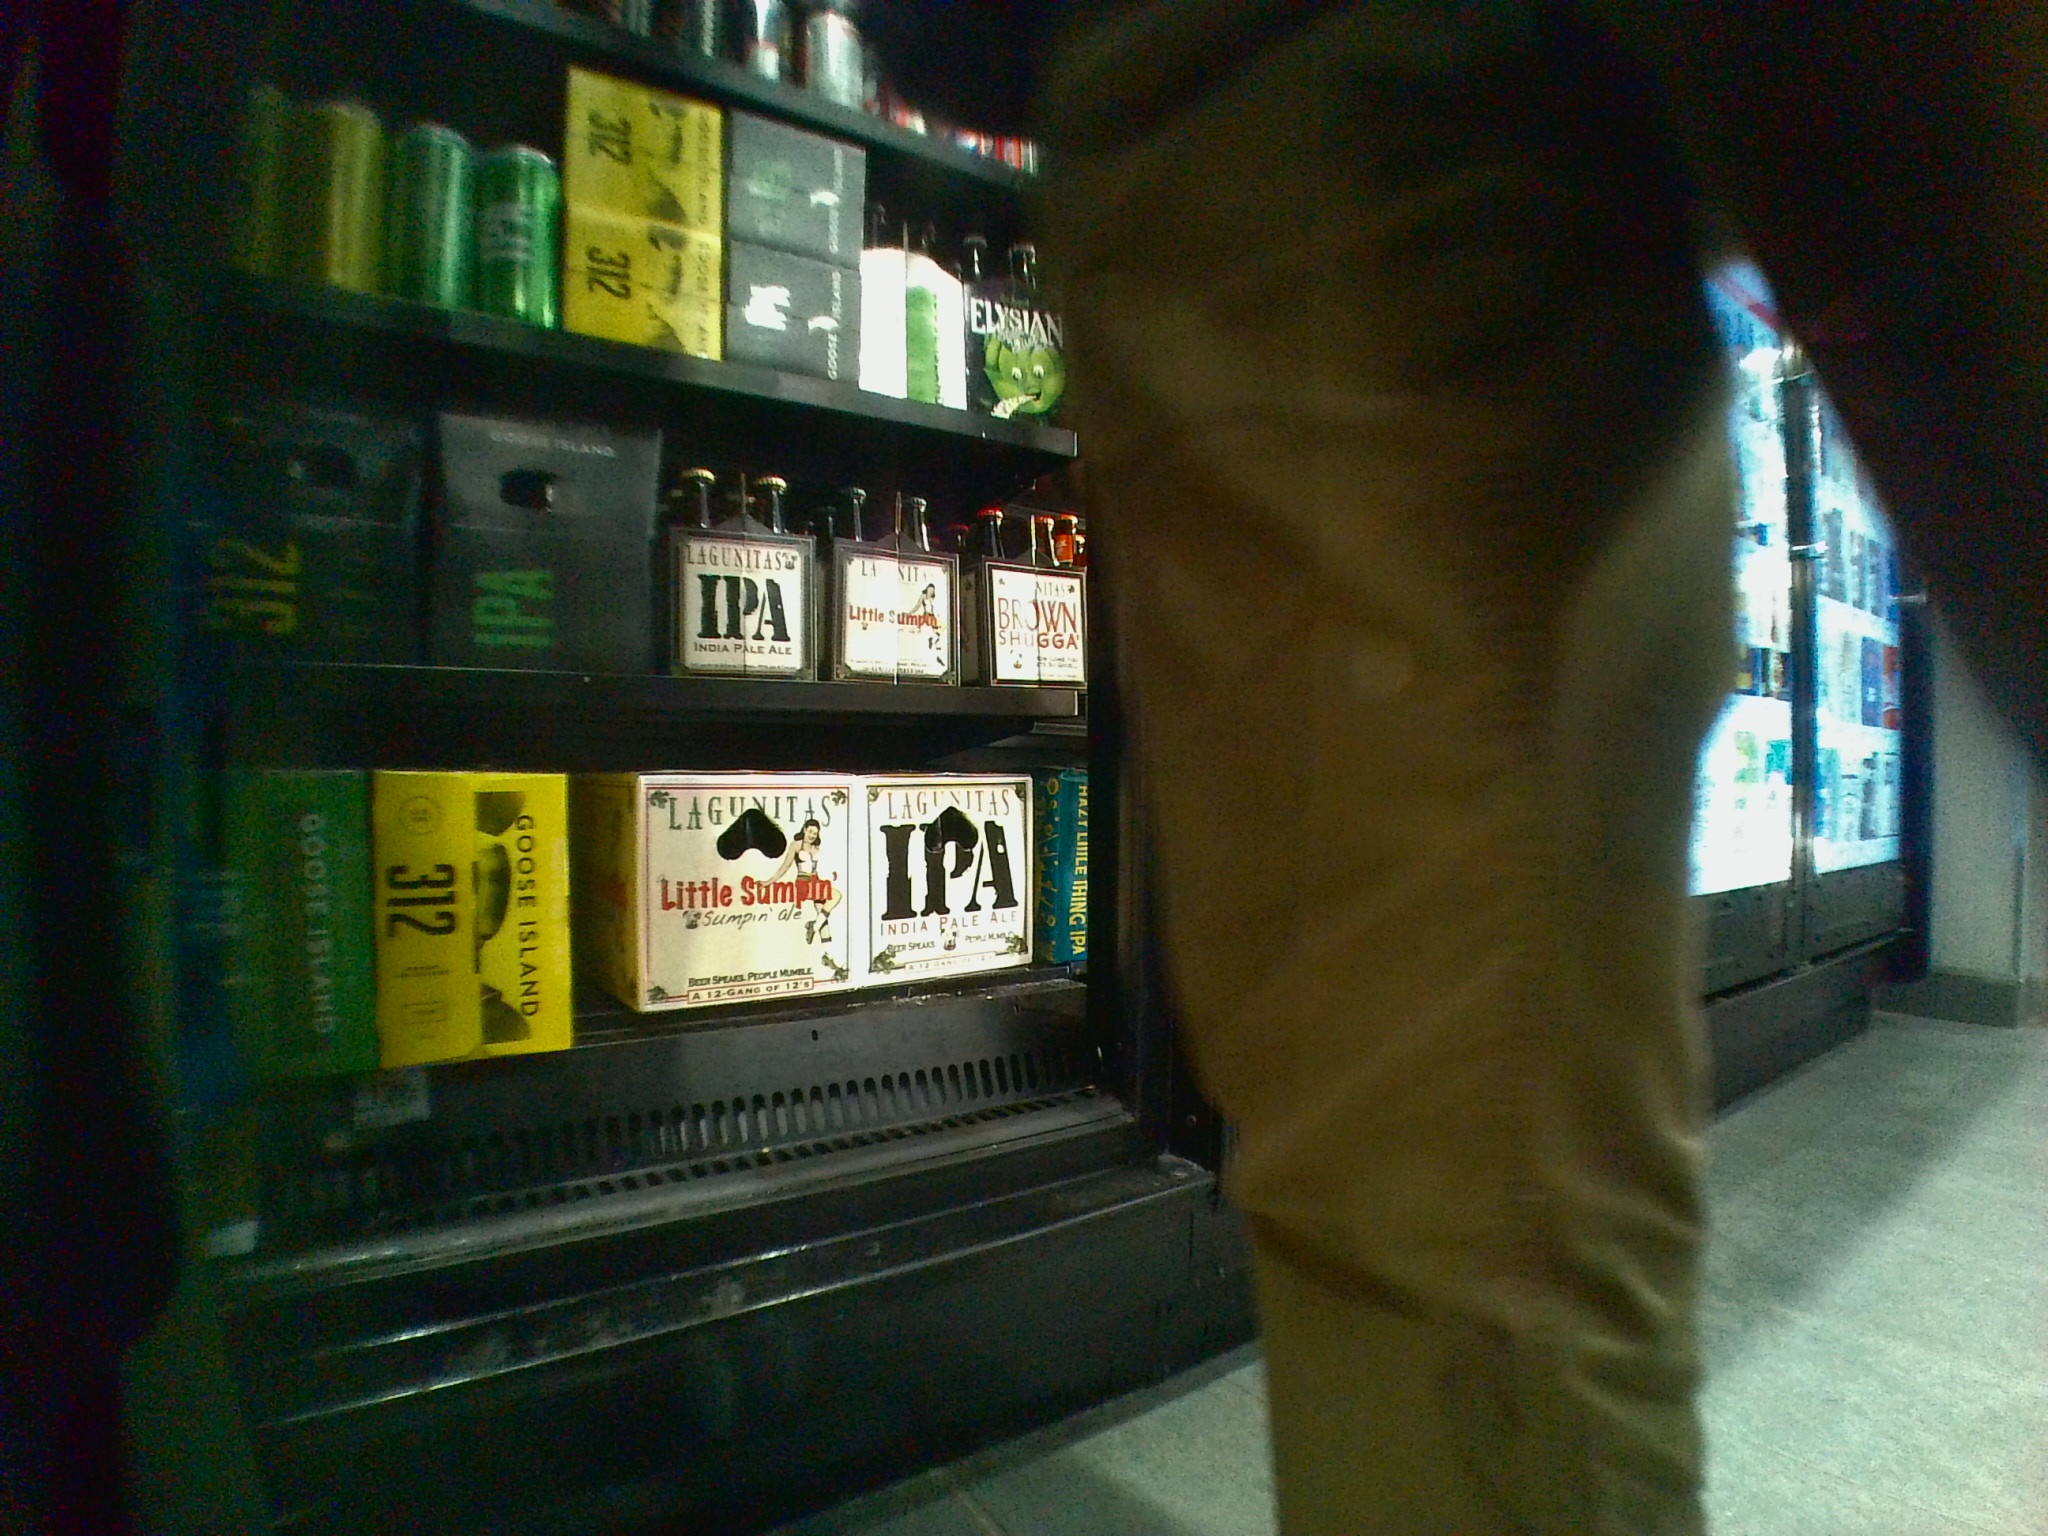shelf: (194, 716, 1106, 1163), (182, 399, 1098, 713)
